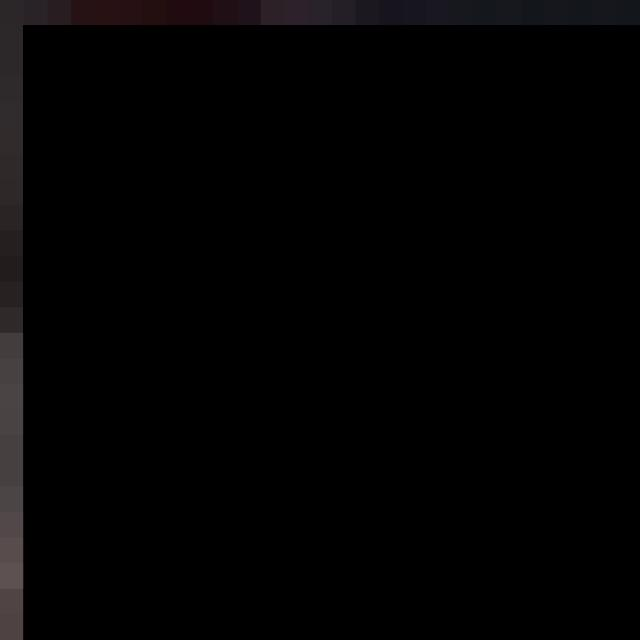fire: (23, 25, 640, 640)
